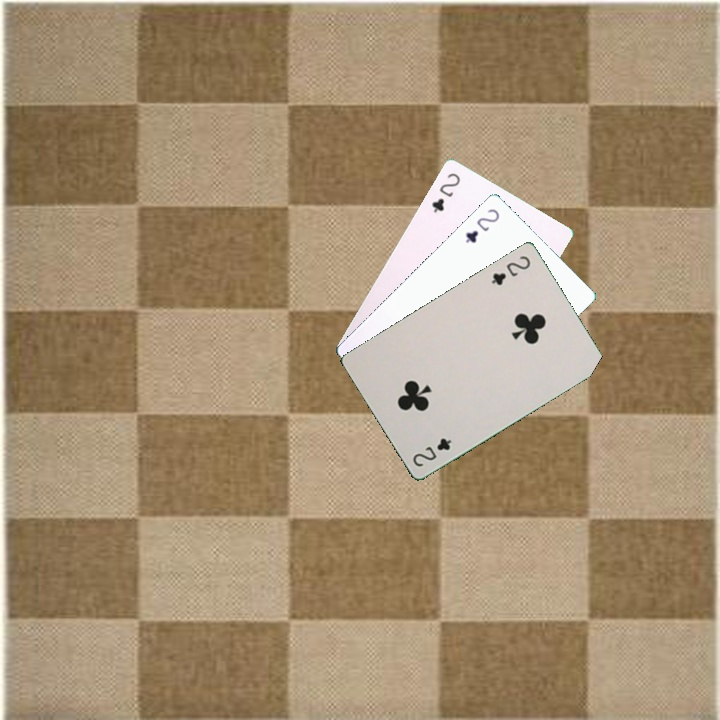2c: (461, 204, 502, 246), (487, 251, 533, 288), (427, 169, 463, 215), (408, 434, 454, 469)
